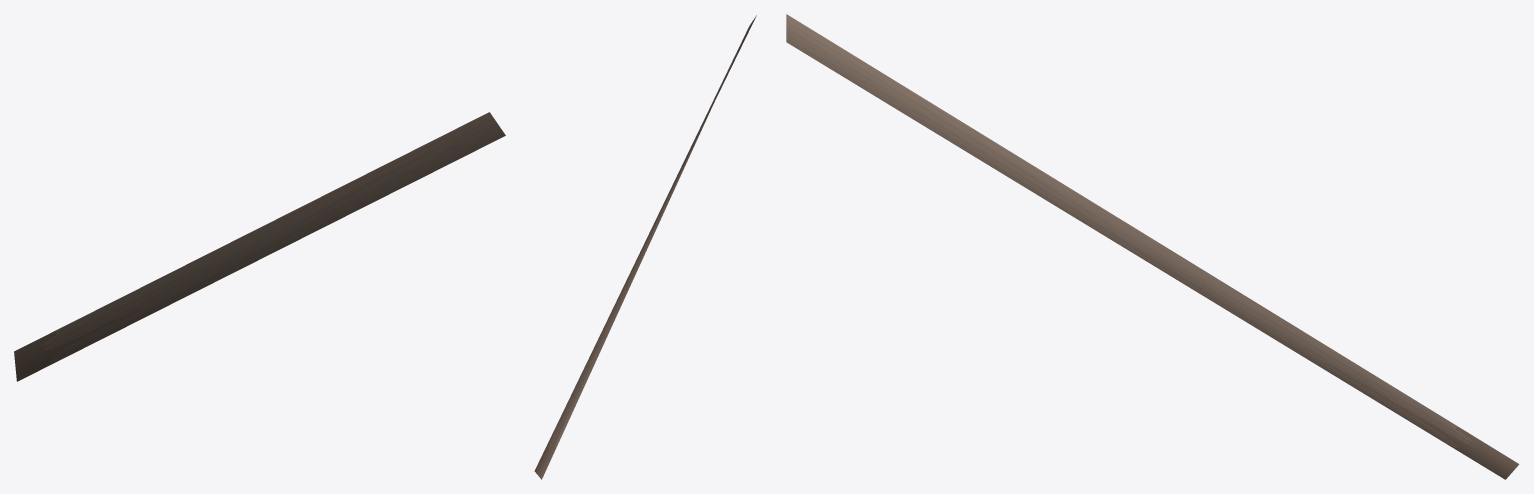
The model's file is kd_stage_135ded_4_52_bounded_piece_7.glb.
3 renders of one model, left to right at view 1: azimuth 30°, elevation 25°; view 2: azimuth 150°, elevation 25°; view 3: azimuth 270°, elevation 25°, orthographic. The views are drawn at different scales.
Visible parts, largest first — view 1: kd_stage_135ded_4_52_bounded_piece_7; view 2: kd_stage_135ded_4_52_bounded_piece_7; view 3: kd_stage_135ded_4_52_bounded_piece_7.
Part boxes in pixels (left/top/right/bottom): kd_stage_135ded_4_52_bounded_piece_7: left=14, top=112, right=505, bottom=381; kd_stage_135ded_4_52_bounded_piece_7: left=534, top=15, right=756, bottom=479; kd_stage_135ded_4_52_bounded_piece_7: left=786, top=14, right=1519, bottom=479.
Size of the model in its own units: 0.0308 by 0.4756 by 0.6666.
1 material, 1 textured.
